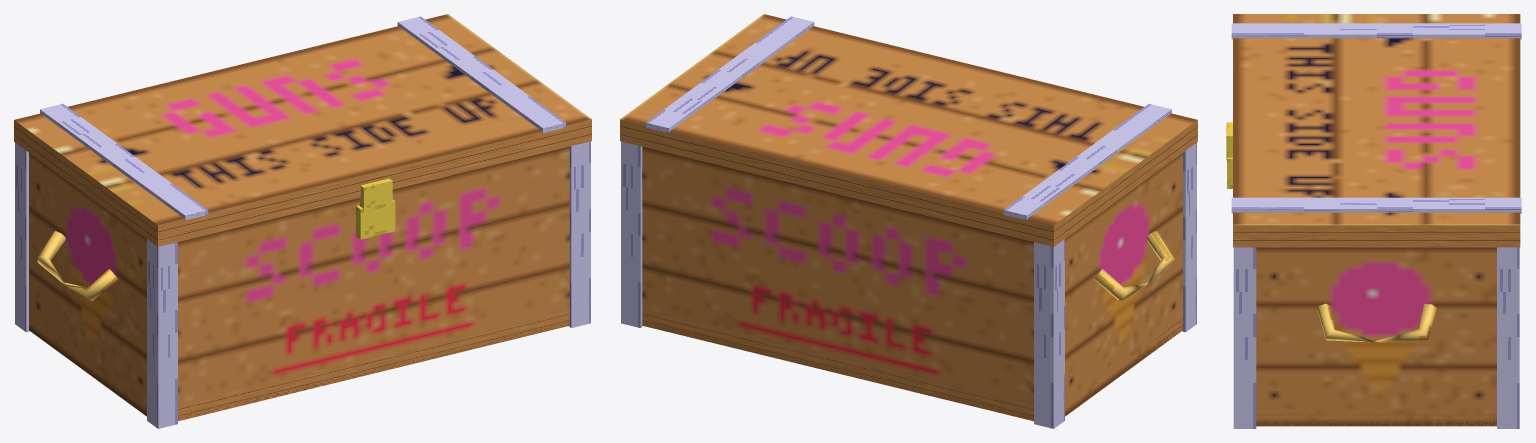
File: Gun Crate Closed.fbx
3 renders of one model, left to right at view 1: azimuth 30°, elevation 25°; view 2: azimuth 150°, elevation 25°; view 3: azimuth 270°, elevation 25°, orthographic.
Parts seen in each view (by area): view 1: Gun Crate Closed lid, Gun Crate Closed wall -1, Gun Crate Closed end -1, Gun Crate Closed floor, Gun Crate Closed corner -1-1, Gun Crate Closed lid band -1, Gun Crate Closed lid band 1, Gun Crate Closed corner 1-1, Gun Crate Closed corner -11, Gun Crate Closed handle -1, Gun Crate Closed hasp, Gun Crate Closed lid latch; view 2: Gun Crate Closed wall 1, Gun Crate Closed lid, Gun Crate Closed end -1, Gun Crate Closed floor, Gun Crate Closed corner -11, Gun Crate Closed lid band -1, Gun Crate Closed lid band 1, Gun Crate Closed corner 11, Gun Crate Closed corner -1-1, Gun Crate Closed handle -1; view 3: Gun Crate Closed lid, Gun Crate Closed end 1, Gun Crate Closed lid band -1, Gun Crate Closed lid band 1, Gun Crate Closed corner 1-1, Gun Crate Closed corner 11, Gun Crate Closed floor, Gun Crate Closed handle 1.
Boxes of the visible parts, x1,y1,x2,y2 form: Gun Crate Closed lid: (14,14,591,246); Gun Crate Closed wall -1: (178,146,569,419); Gun Crate Closed end -1: (29,153,146,416); Gun Crate Closed floor: (37,309,569,421); Gun Crate Closed corner -1-1: (147,239,177,428); Gun Crate Closed lid band -1: (40,103,208,220); Gun Crate Closed lid band 1: (397,16,565,132); Gun Crate Closed corner 1-1: (569,141,590,327); Gun Crate Closed corner -11: (15,142,29,332); Gun Crate Closed handle -1: (37,230,118,301); Gun Crate Closed hasp: (356,199,395,239); Gun Crate Closed lid latch: (360,178,392,211); Gun Crate Closed wall 1: (642,146,1033,420); Gun Crate Closed lid: (620,14,1197,246); Gun Crate Closed end -1: (1065,153,1182,416); Gun Crate Closed floor: (642,309,1182,421); Gun Crate Closed corner -11: (1034,239,1064,428); Gun Crate Closed lid band -1: (1003,103,1171,220); Gun Crate Closed lid band 1: (646,16,814,132); Gun Crate Closed corner 11: (621,141,642,327); Gun Crate Closed corner -1-1: (1182,142,1196,332); Gun Crate Closed handle -1: (1094,231,1175,300); Gun Crate Closed lid: (1233,14,1520,247); Gun Crate Closed end 1: (1256,247,1496,426); Gun Crate Closed lid band -1: (1231,23,1521,39); Gun Crate Closed lid band 1: (1231,197,1521,213); Gun Crate Closed corner 1-1: (1233,247,1256,428); Gun Crate Closed corner 11: (1497,247,1519,428); Gun Crate Closed floor: (1256,409,1496,426); Gun Crate Closed handle 1: (1317,303,1436,342).
Size of the model in its own units: 0.8363 by 0.344 by 0.444.
Materials: 4 (4 with a texture image).
